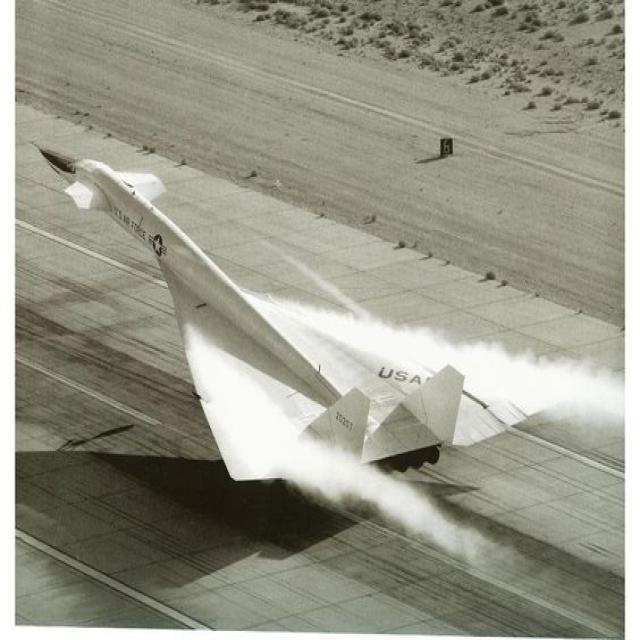MIL_Plane: (27, 139, 554, 496)
